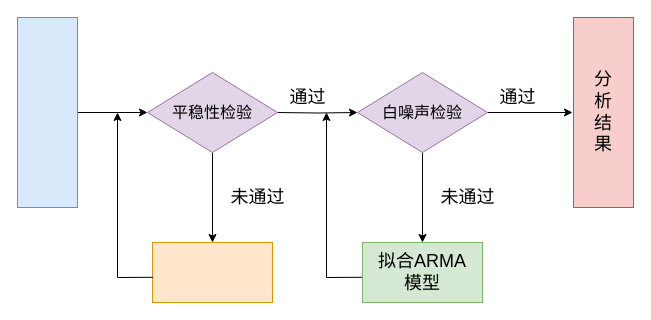
Some shapes in this 651 by 320 pixel diagram are drawn without their labels. The shapes that lost their labels are listed below. From the top down, each one's centre as x and y in pixels, then its label:
At point 47,112: "获 得 观 察 值 序 列".
At point 212,272: "差分运算".
